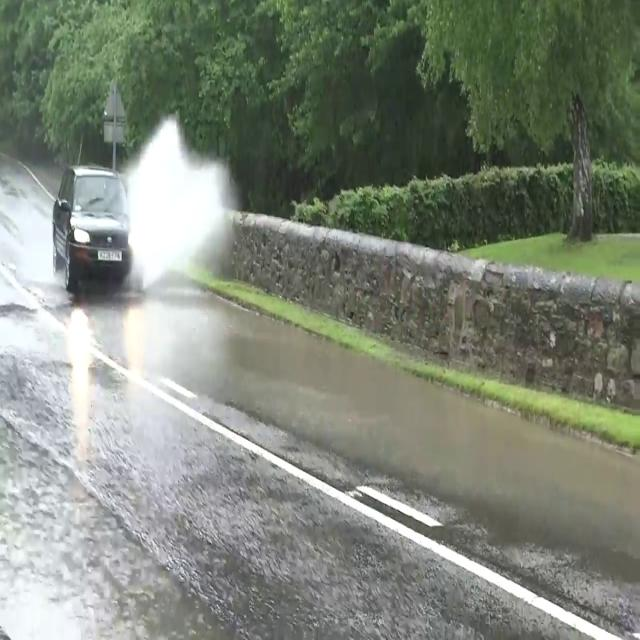license-plate-annotation: (91, 241, 127, 268)
